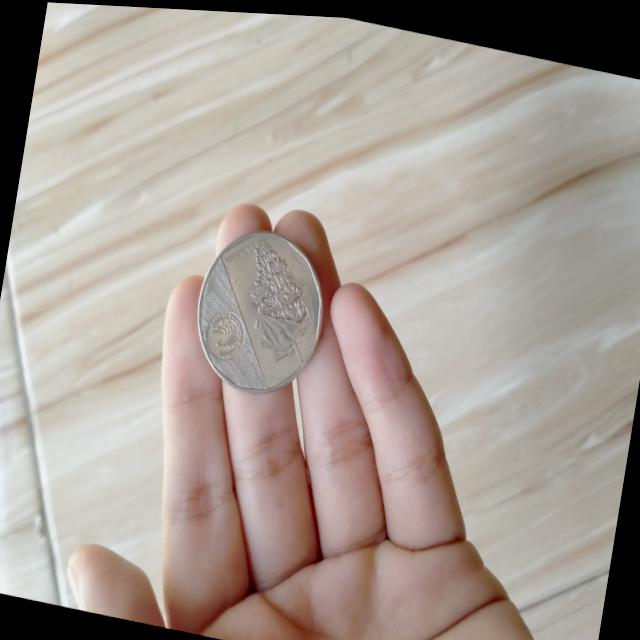10_New_Back: (230, 234, 324, 368)
